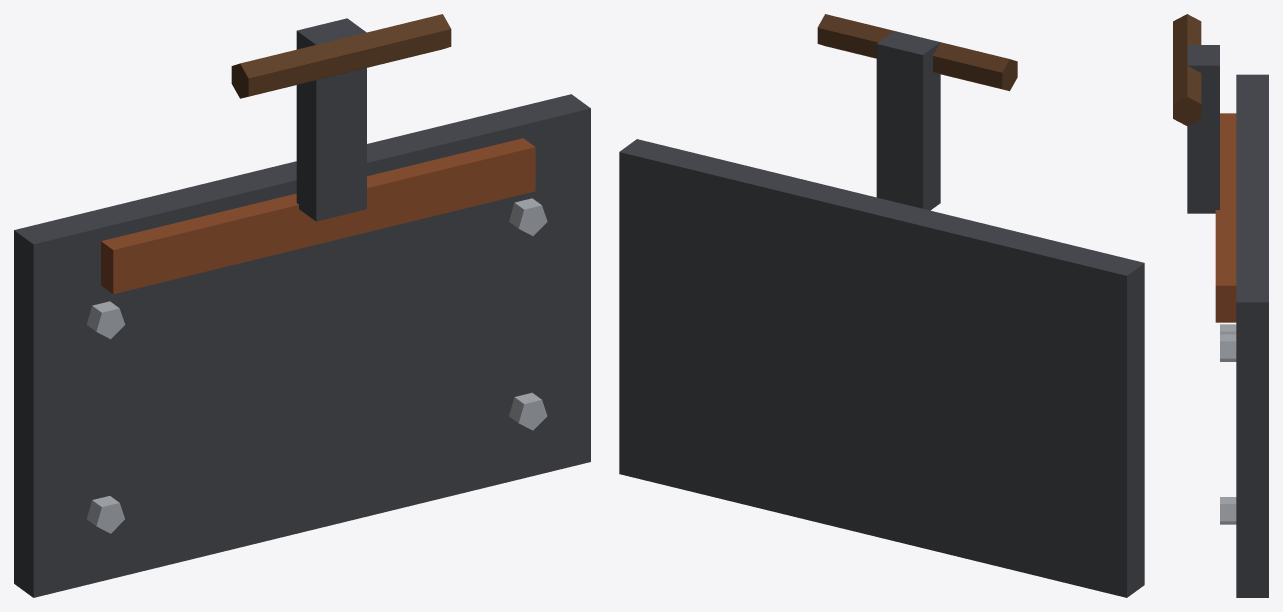
The model's file is mine_chute_gate.glb.
The picture shows the model from 3 angles, left to right: view 1: azimuth 30°, elevation 25°; view 2: azimuth 150°, elevation 25°; view 3: azimuth 270°, elevation 25°; orthographic projection. The views are drawn at different scales.
Parts seen in each view (by area): view 1: mine_chute_gate; view 2: mine_chute_gate; view 3: mine_chute_gate.
Boxes of the visible parts, x1=… form: mine_chute_gate: x1=14, y1=14, x2=590, y2=597; mine_chute_gate: x1=619, y1=14, x2=1144, y2=597; mine_chute_gate: x1=1173, y1=14, x2=1268, y2=597.
Size of what is drawn, in the model's own units: 0.66 by 0.58 by 0.1173.
